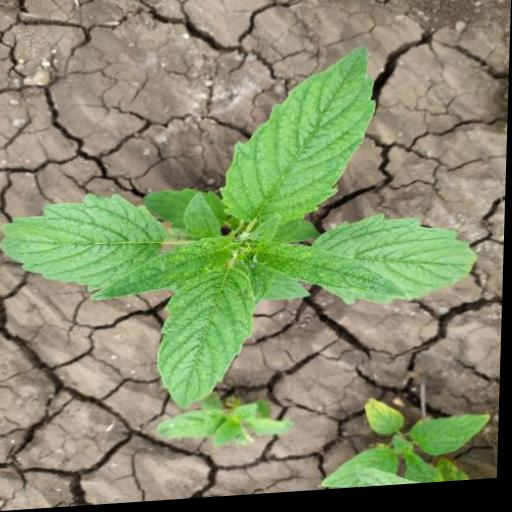crop: (9, 48, 482, 413), (323, 393, 490, 494)
